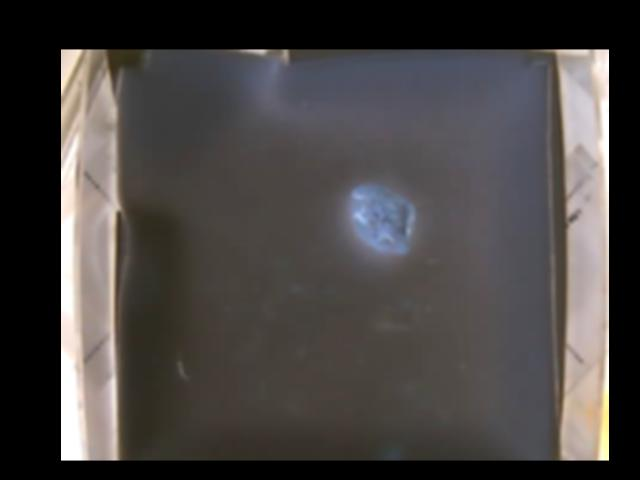Pebble: (349, 184, 413, 252)
